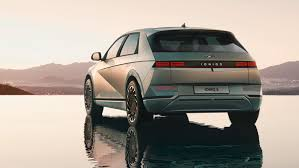Honda Ioniq: (70, 18, 271, 143)
